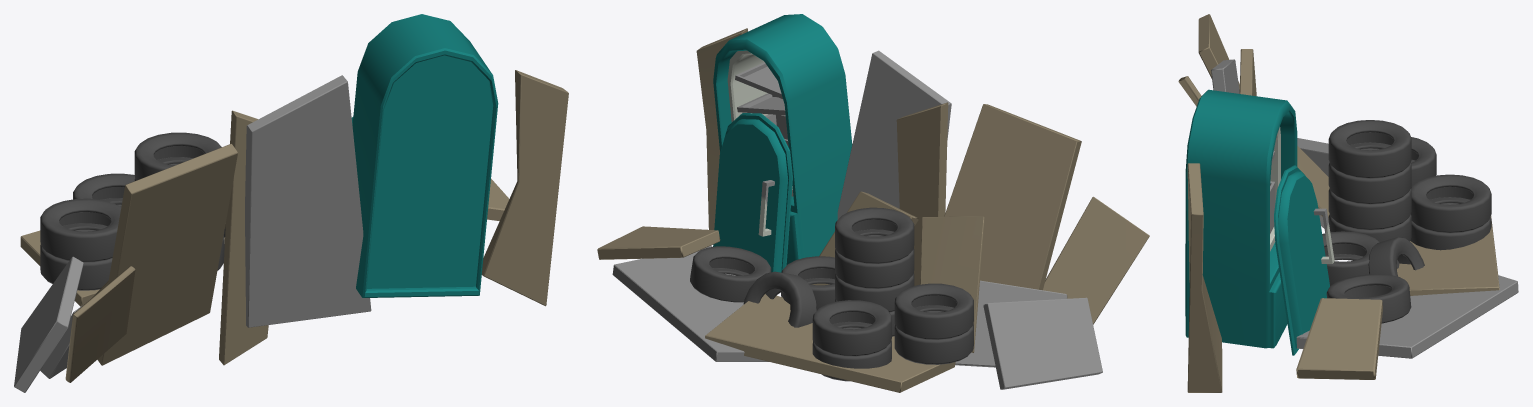
The model's file is SM_rubble_A.fbx.
3 renders of one model, left to right at view 1: azimuth 30°, elevation 25°; view 2: azimuth 150°, elevation 25°; view 3: azimuth 270°, elevation 25°, orthographic. The views are drawn at different scales.
Visible parts, largest first — view 1: polySurface142; view 2: polySurface142; view 3: polySurface142.
Boxes of the visible parts, x1,y1,x2,y2 form: polySurface142: (14, 14, 568, 392); polySurface142: (597, 14, 1149, 392); polySurface142: (1178, 14, 1518, 392).
Bounding box in the file's own units: 785 × 422 × 481.
